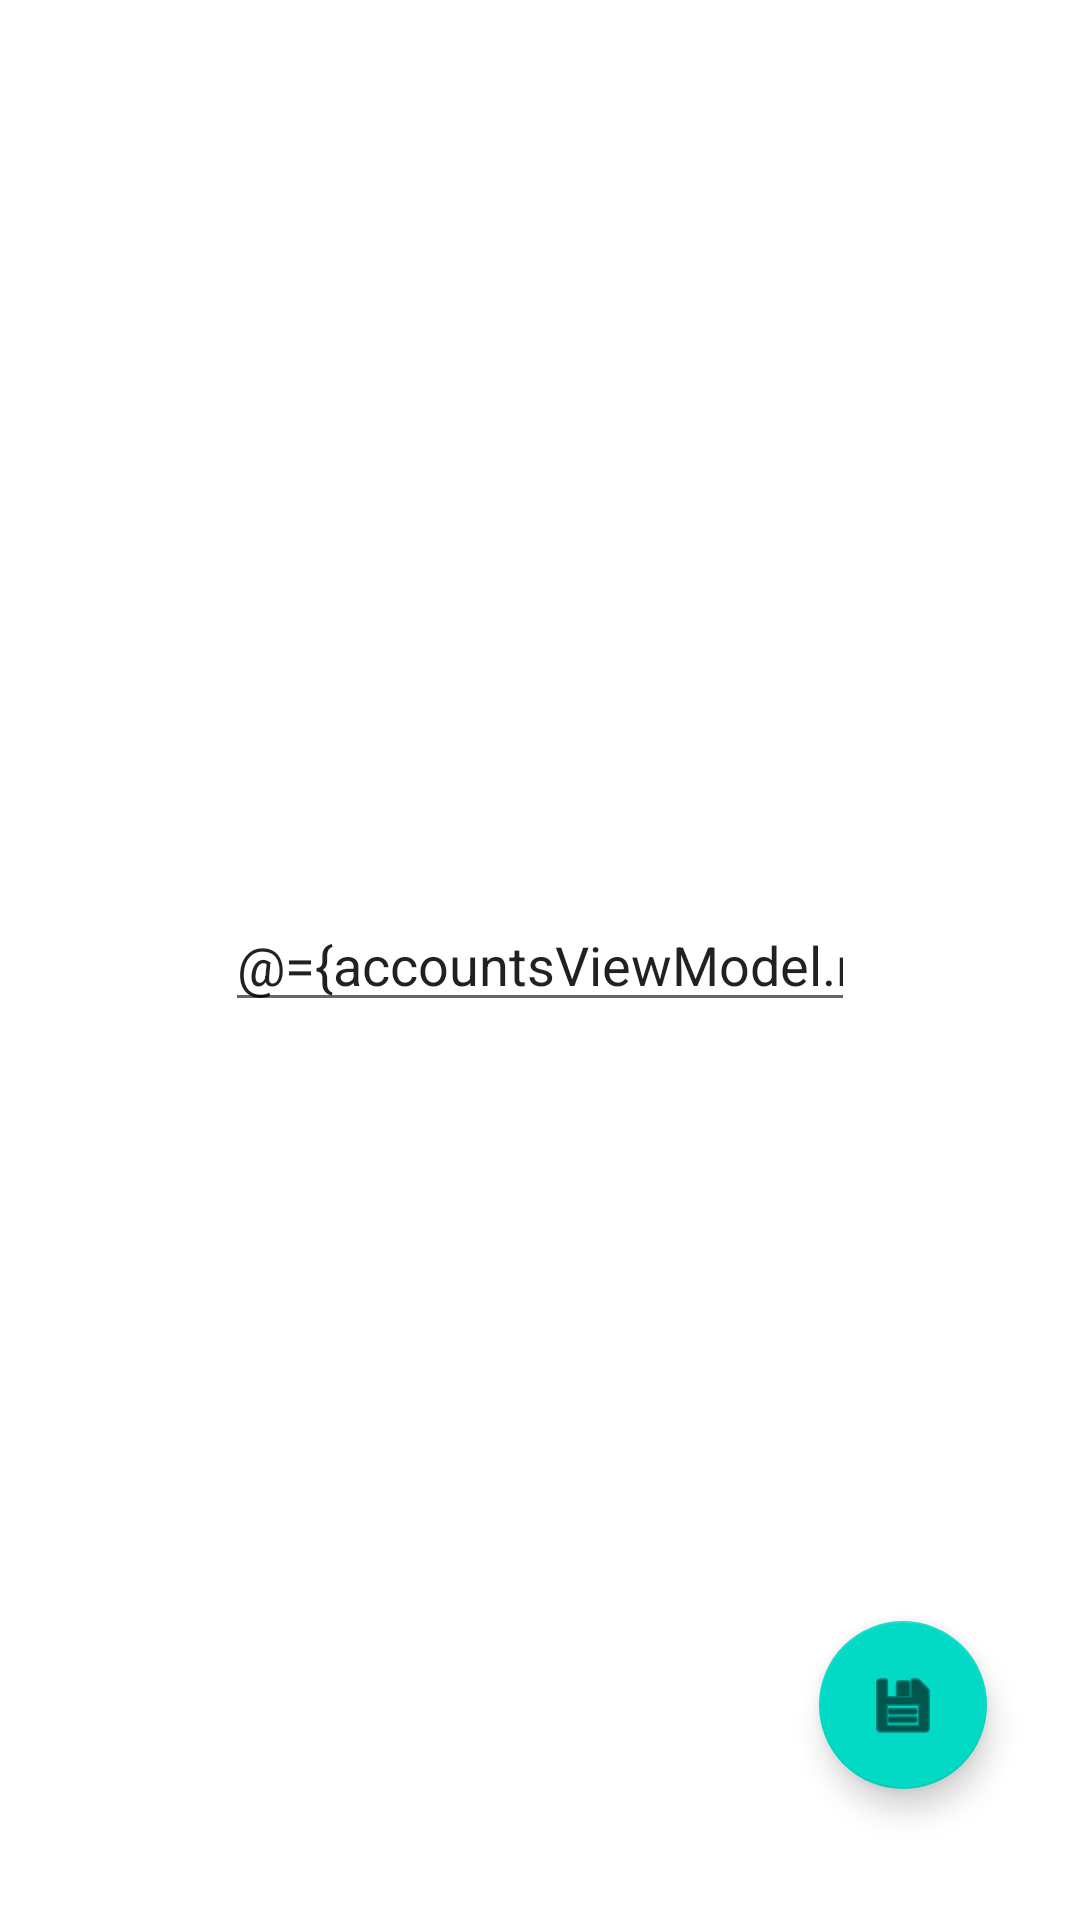

Icons on this 1080*1920 Android screen, each with its box as (x1, y1, x2, y2):
save: (819, 1621, 987, 1789)
